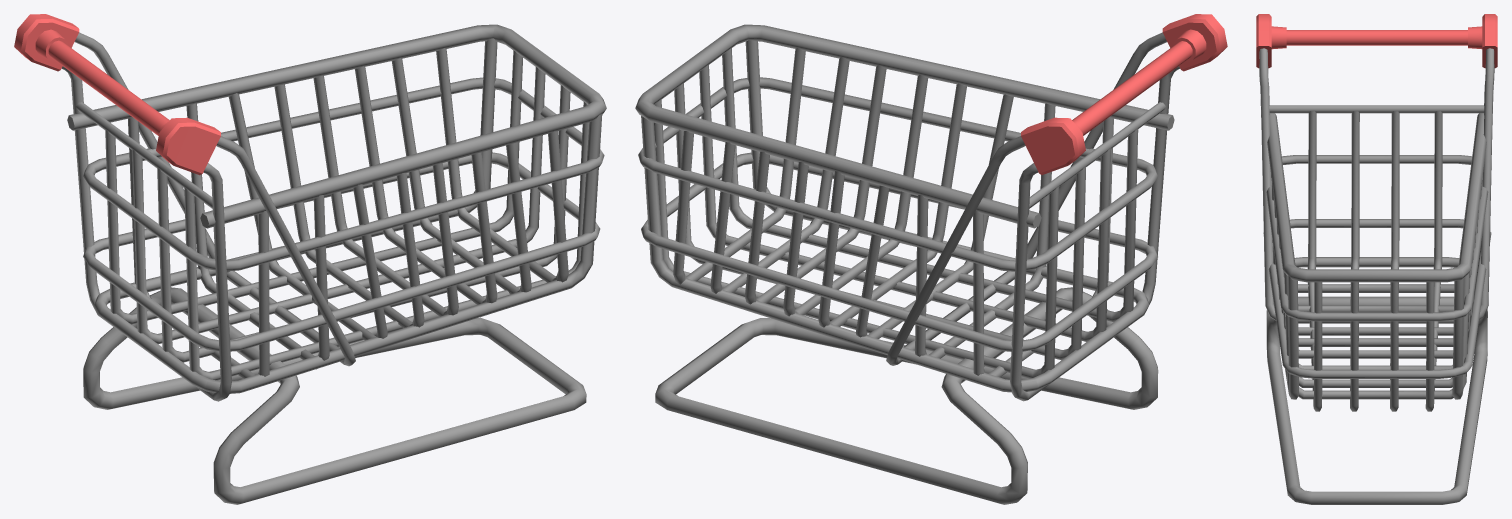
The model's file is hypercasual_prop001.FBX.
The picture shows the model from 3 angles, left to right: view 1: azimuth 30°, elevation 25°; view 2: azimuth 150°, elevation 25°; view 3: azimuth 270°, elevation 25°; orthographic projection. The views are drawn at different scales.
Visible parts, largest first — view 1: hypercasual_prop001; view 2: hypercasual_prop001; view 3: hypercasual_prop001.
Boxes of the visible parts, x1,y1,x2,y2 form: hypercasual_prop001: (14,14,606,504); hypercasual_prop001: (635,14,1227,504); hypercasual_prop001: (1256,14,1497,504).
Size of the model in its own units: 7.27 by 5.98 by 4.05.
1 material, 1 textured.
